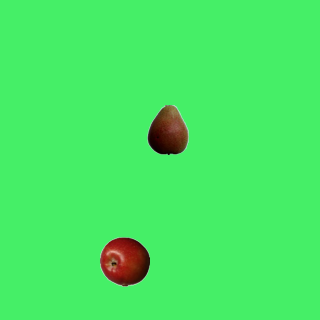Apple Braeburn: (99, 236, 149, 286)
Pear Forelle: (142, 104, 192, 154)
